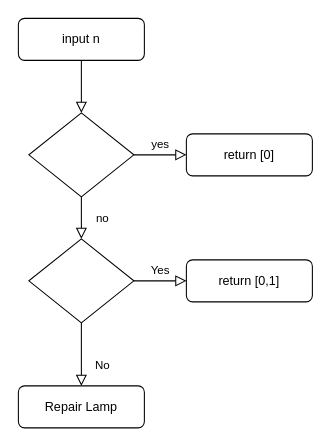
This 331x446 diagram has some shape labels left out. Here are the shapes that lost their labels. From the top down, the centre of each, then its label:
(x=81, y=154): is n=0
(x=81, y=280): is n = 1
